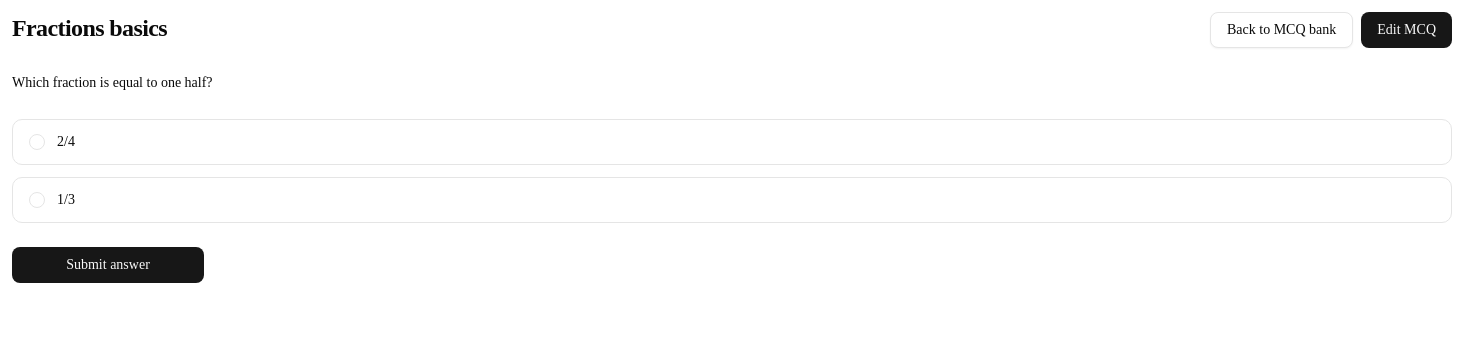
McqPreview › records an attempt and shows Correct when the selected answer is right
This screenshot has width=1464, height=344.
Expected: the heading "Fractions basics" is shown, top-left (12, 12), bottom-right (167, 44)
Click the radio button named "2/4" next to "2/4" at (37, 142), box top-left (29, 134), bottom-right (45, 150)
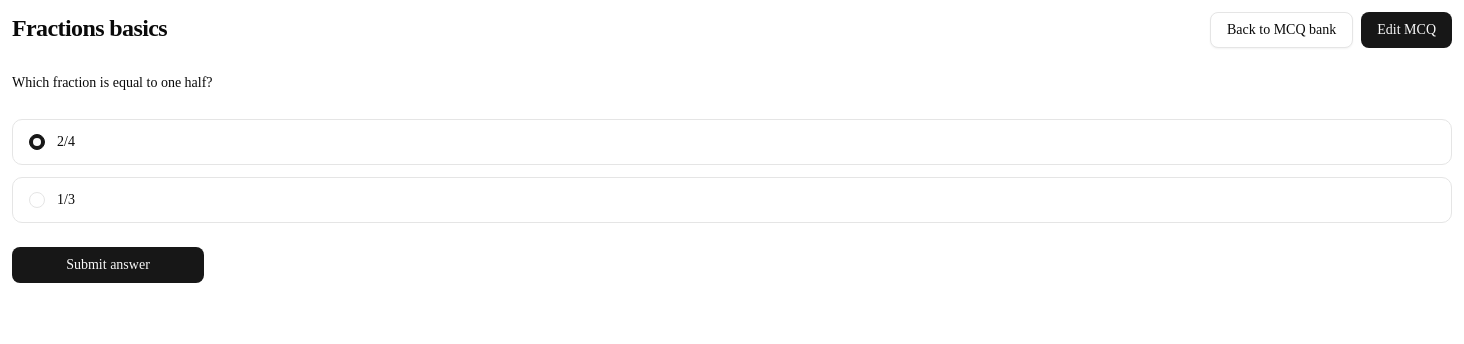
Click the button "Submit answer" at (108, 265), box top-left (12, 247), bottom-right (204, 283)
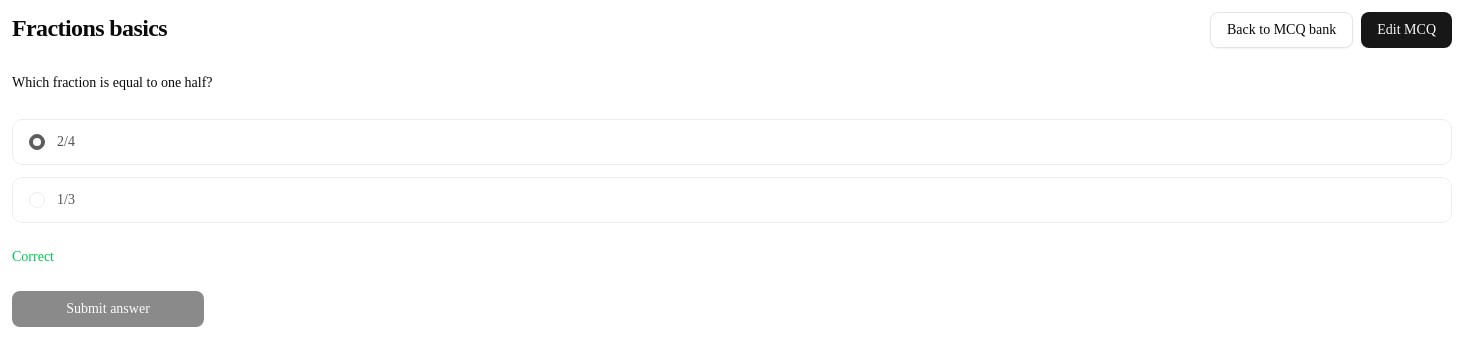
Now the message reads "Correct", box top-left (12, 249), bottom-right (54, 264)
Now the button "Submit answer" is disabled, box top-left (12, 291), bottom-right (204, 327)
